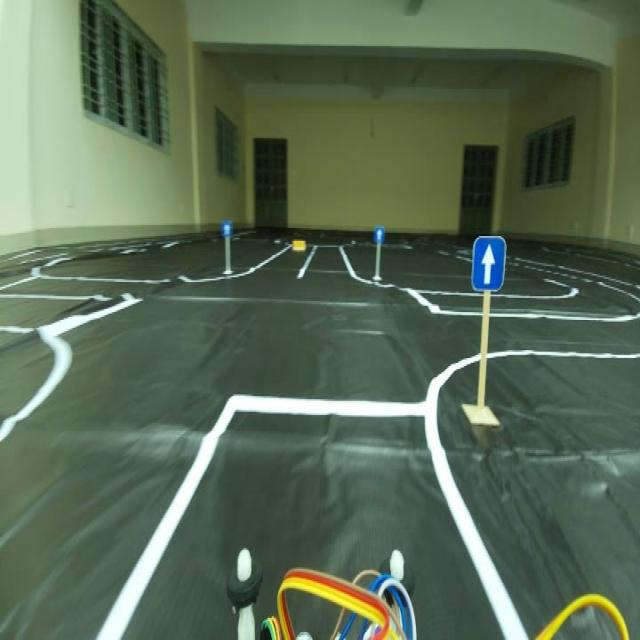onewayroad: (471, 219, 508, 297), (373, 221, 387, 245), (220, 216, 232, 242)
roadblock: (286, 236, 308, 255)
